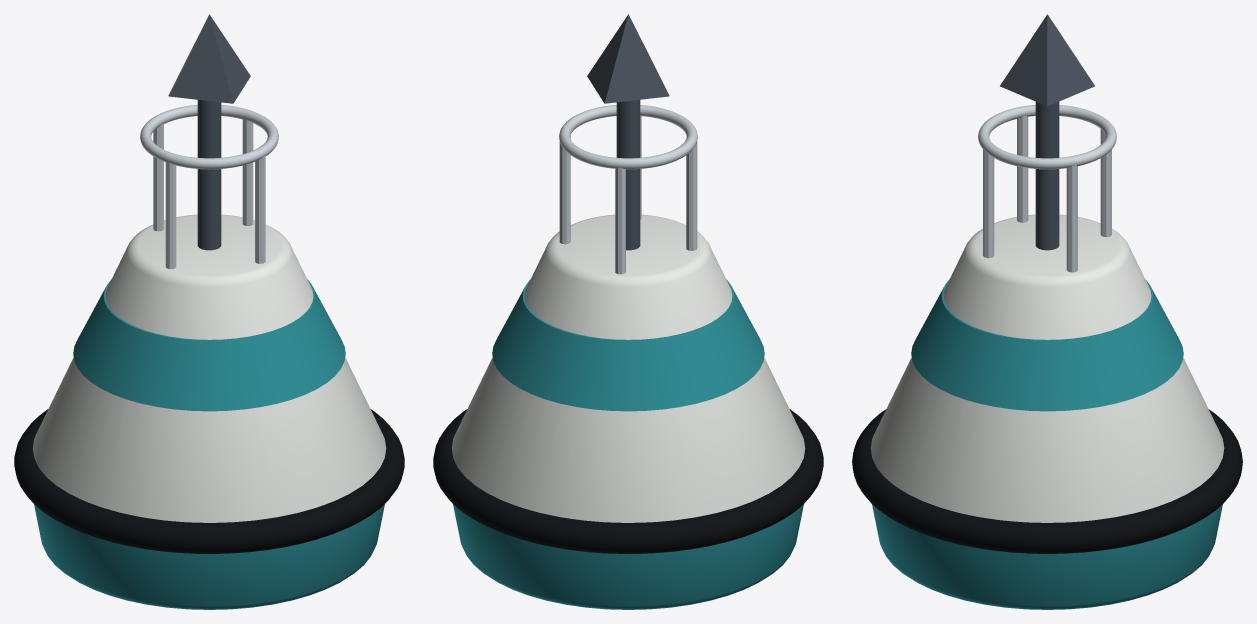
Rendered from buoy.glb.
3 views of the same model, side by side, from view 1: azimuth 30°, elevation 25°; view 2: azimuth 150°, elevation 25°; view 3: azimuth 270°, elevation 25° (orthographic).
Visible parts, largest first — view 1: titan.buoy.hull, titan.buoy.band, titan.buoy.hull-low, titan.buoy.fender, titan.buoy.topmark, titan.buoy.mast, titan.buoy.rail-ring, titan.buoy.rail.2, titan.buoy.rail.3, titan.buoy.rail.0, titan.buoy.rail.1; view 2: titan.buoy.hull, titan.buoy.band, titan.buoy.hull-low, titan.buoy.fender, titan.buoy.topmark, titan.buoy.rail-ring, titan.buoy.mast, titan.buoy.rail.2, titan.buoy.rail.1, titan.buoy.rail.0; view 3: titan.buoy.hull, titan.buoy.band, titan.buoy.hull-low, titan.buoy.fender, titan.buoy.topmark, titan.buoy.mast, titan.buoy.rail-ring, titan.buoy.rail.0, titan.buoy.rail.3, titan.buoy.rail.2, titan.buoy.rail.1.
Boxes of the visible parts, x1,y1,x2,y2 form: titan.buoy.hull: (32, 214, 386, 522); titan.buoy.band: (73, 279, 345, 411); titan.buoy.hull-low: (34, 504, 384, 609); titan.buoy.fender: (14, 409, 404, 553); titan.buoy.topmark: (168, 14, 250, 103); titan.buoy.mast: (197, 100, 221, 250); titan.buoy.rail-ring: (140, 105, 278, 169); titan.buoy.rail.2: (165, 161, 176, 268); titan.buoy.rail.3: (255, 155, 265, 263); titan.buoy.rail.0: (242, 118, 253, 225); titan.buoy.rail.1: (153, 123, 163, 231); titan.buoy.hull: (451, 214, 805, 522); titan.buoy.band: (492, 279, 764, 411); titan.buoy.hull-low: (453, 504, 803, 609); titan.buoy.fender: (433, 409, 823, 553); titan.buoy.topmark: (587, 14, 669, 103); titan.buoy.rail-ring: (559, 105, 697, 169); titan.buoy.mast: (616, 100, 640, 250); titan.buoy.rail.2: (686, 141, 697, 250); titan.buoy.rail.1: (615, 167, 625, 274); titan.buoy.rail.0: (559, 135, 570, 244); titan.buoy.hull: (870, 214, 1224, 522); titan.buoy.band: (911, 279, 1183, 411); titan.buoy.hull-low: (872, 504, 1222, 609); titan.buoy.fender: (852, 409, 1242, 553); titan.buoy.topmark: (1000, 14, 1094, 106); titan.buoy.mast: (1035, 102, 1059, 250); titan.buoy.rail-ring: (978, 105, 1116, 169); titan.buoy.rail.0: (1066, 165, 1077, 272); titan.buoy.rail.3: (983, 149, 994, 258); titan.buoy.rail.2: (1017, 115, 1028, 222); titan.buoy.rail.1: (1100, 129, 1111, 237).
Bounding box in the file's own units: 0.98 × 1.46 × 0.98.
